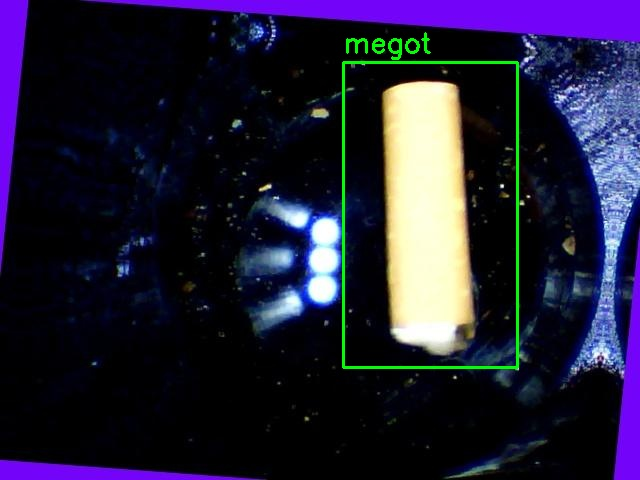megot: (343, 62, 517, 367)
